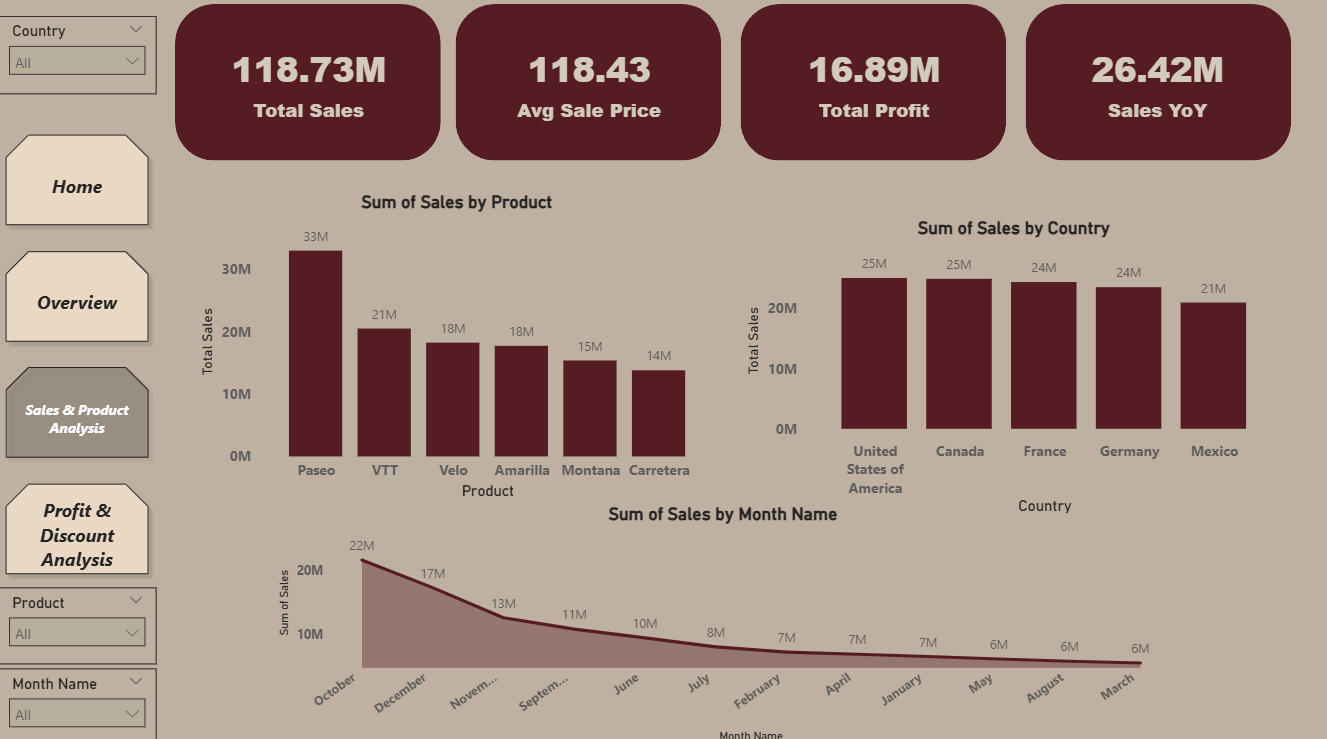

This screenshot's page, from the dashboard's own definition file:
{"tool":"powerbi","page":{"name":"Sales & Product Analysis","canvas":[1280,720],"ordinal":2},"visuals":[{"type":"pageNavigator","box":[0,129.4,151.8,436.2],"z":0},{"type":"shape","box":[169.2,11.4,253.7,149.6],"z":1000},{"type":"shape","box":[437.5,11.4,253.7,149.6],"z":2000},{"type":"shape","box":[709.2,11.4,253.7,149.6],"z":3000},{"type":"shape","box":[980.8,11.4,253.7,149.6],"z":4000},{"type":"card","fields":{"Values":["financials.Total Sales"]},"box":[201.7,22.8,188.7,126.9],"z":5000},{"type":"card","fields":{"Values":["financials.Avg Sale Price"]},"box":[470.1,22.8,188.7,126.9],"z":6000},{"type":"card","fields":{"Values":["financials.Total Profit"]},"box":[741.7,22.8,188.7,126.9],"z":7000},{"type":"card","fields":{"Values":["financials.Sales YoY"]},"box":[1013.3,22.8,188.7,126.9],"z":8000},{"type":"columnChart","fields":{"Category":["financials.Product"],"Y":["Sum(financials. Sales)"]},"box":[187.1,190.3,501,297.7],"z":9000},{"type":"columnChart","fields":{"Category":["financials.Country"],"Y":["Sum(financials. Sales)"]},"box":[709.2,214.7,522.1,287.9],"z":10000},{"type":"lineChart","fields":{"Category":["financials.Month Name"],"Y":["Sum(financials. Sales)"]},"box":[261.9,488,860.4,232.6],"z":11000},{"type":"slicer","fields":{"Values":["financials.Product"]},"box":[0,569.3,151.3,73.2],"z":12000},{"type":"slicer","fields":{"Values":["financials.Country"]},"box":[0,22.8,151.3,74.8],"z":13000},{"type":"slicer","fields":{"Values":["financials.Month Name"]},"box":[0,645.7,151.3,74.8],"z":14000}]}

Visuals, with their boxes in screenshot pixels (x1, y1, x2, y2), scaled from the page's 1280x720 canvas onto the 1327x739 screenshot:
pageNavigator: bbox(0, 133, 157, 581)
shape: bbox(175, 12, 438, 165)
shape: bbox(454, 12, 717, 165)
shape: bbox(735, 12, 998, 165)
shape: bbox(1017, 12, 1280, 165)
card - financials.Total Sales: bbox(209, 23, 405, 154)
card - financials.Avg Sale Price: bbox(487, 23, 683, 154)
card - financials.Total Profit: bbox(769, 23, 965, 154)
card - financials.Sales YoY: bbox(1051, 23, 1246, 154)
columnChart - financials.Product x Sum(financials. Sales): bbox(194, 195, 713, 501)
columnChart - financials.Country x Sum(financials. Sales): bbox(735, 220, 1277, 516)
lineChart - financials.Month Name x Sum(financials. Sales): bbox(272, 501, 1164, 738)
slicer - financials.Product: bbox(0, 584, 157, 659)
slicer - financials.Country: bbox(0, 23, 157, 100)
slicer - financials.Month Name: bbox(0, 663, 157, 738)
